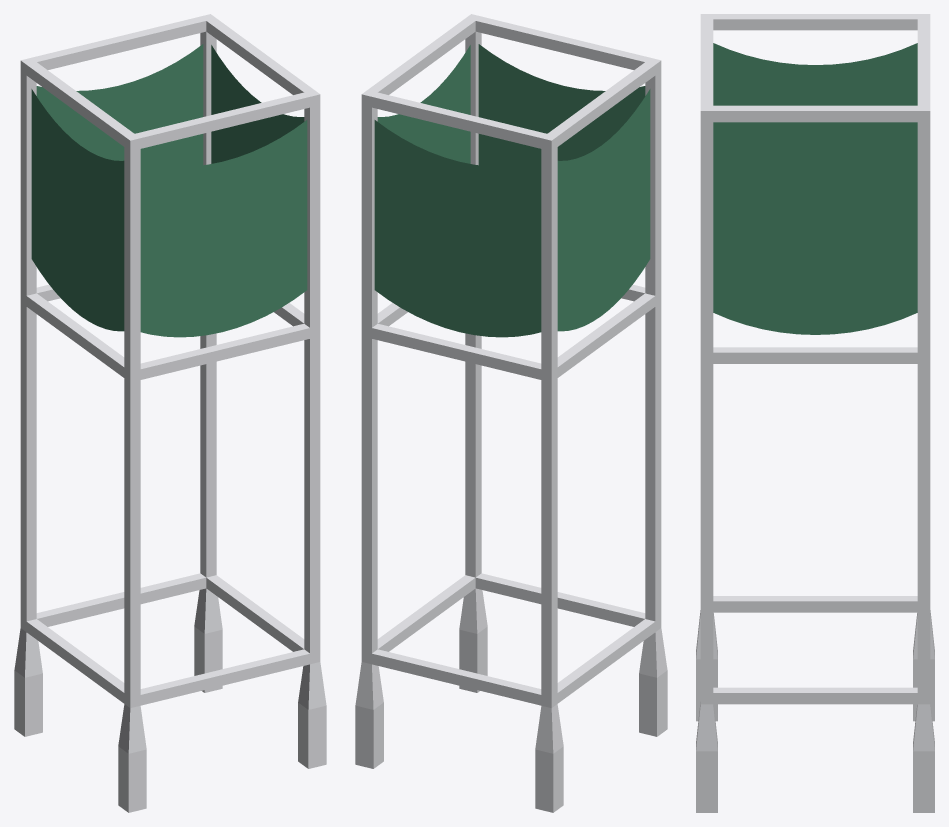
File: bannerTowerGreen.glb
3 renders of one model, left to right at view 1: azimuth 30°, elevation 25°; view 2: azimuth 150°, elevation 25°; view 3: azimuth 270°, elevation 25°, orthographic. The views are drawn at different scales.
Visible parts, largest first — view 1: bannerTowerGreen; view 2: bannerTowerGreen; view 3: bannerTowerGreen.
Part boxes in pixels (x1,y1,x2,y2): bannerTowerGreen: (14, 14, 326, 812); bannerTowerGreen: (355, 14, 667, 812); bannerTowerGreen: (696, 14, 934, 812).
Size of the model in its own units: 0.3852 by 1.25 by 0.3852.
